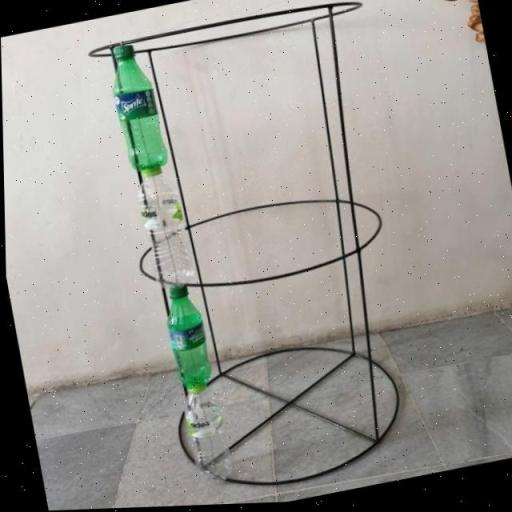plastic: (102, 38, 170, 176), (130, 159, 196, 293), (158, 281, 216, 396), (176, 376, 234, 490)
